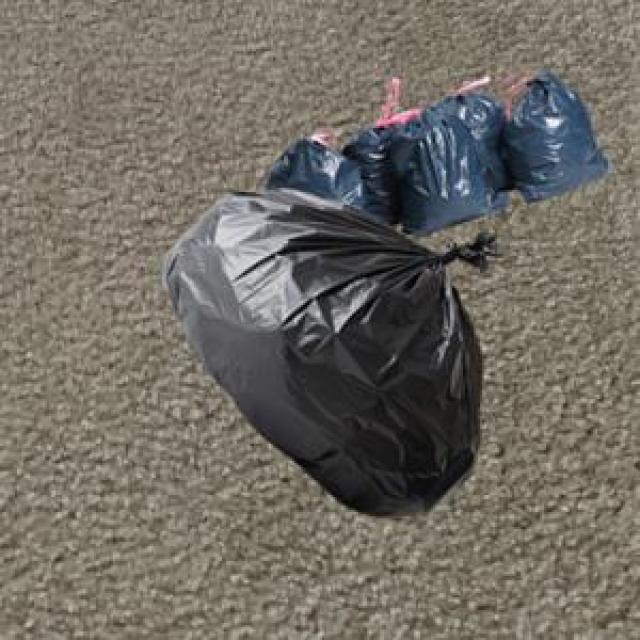Vinyl: (162, 70, 606, 513)
